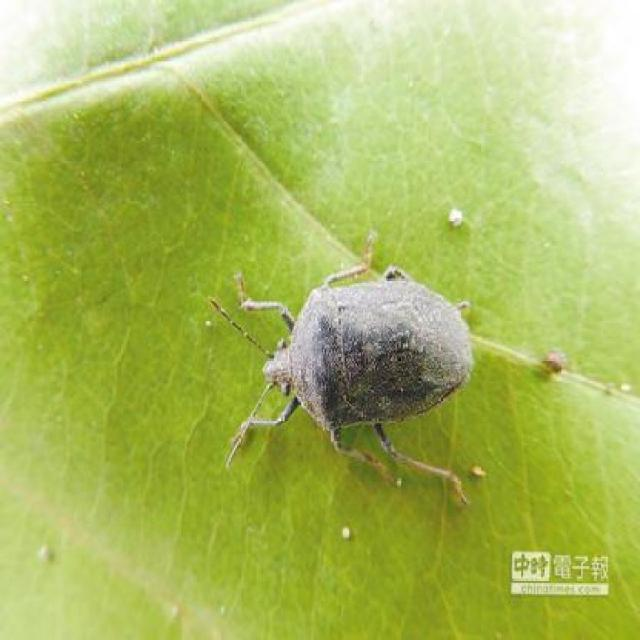rice-bug: (223, 243, 494, 494)
